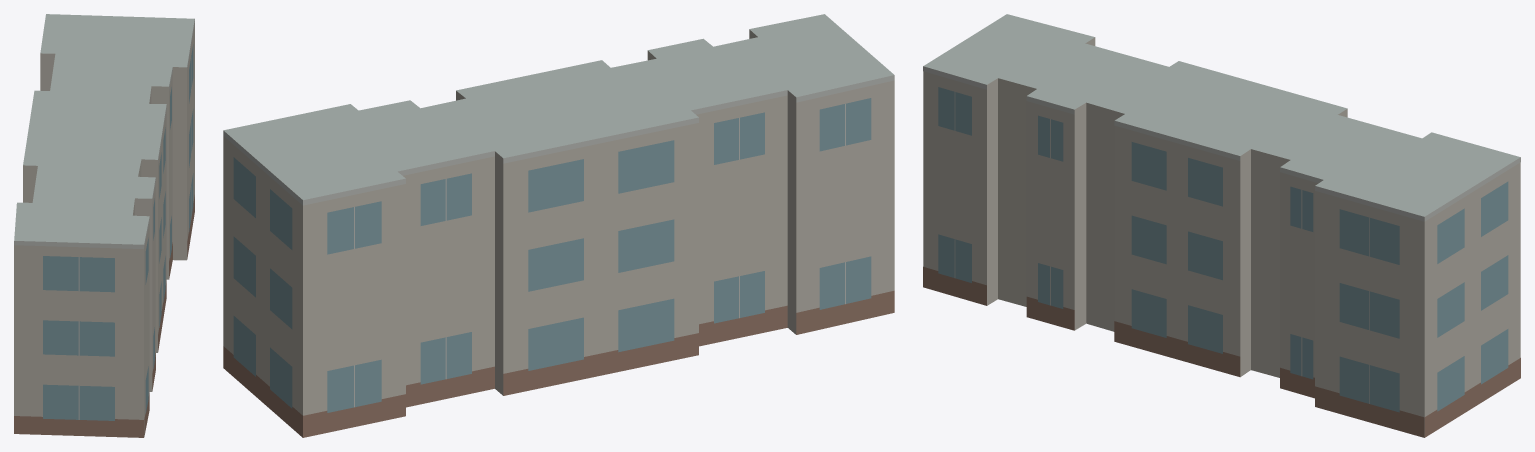
Rendered from survey-upis-32554726.glb.
3 views of the same model, side by side, from view 1: azimuth 30°, elevation 25°; view 2: azimuth 150°, elevation 25°; view 3: azimuth 270°, elevation 25° (orthographic). The views are drawn at different scales.
Visible parts, largest first — view 1: survey-upis-32554726.tmp; view 2: survey-upis-32554726.tmp; view 3: survey-upis-32554726.tmp.
Part boxes in pixels (x1,y1,x2,y2): survey-upis-32554726.tmp: [14, 14, 194, 437]; survey-upis-32554726.tmp: [223, 14, 894, 437]; survey-upis-32554726.tmp: [923, 14, 1520, 437].
Size of the model in its own units: 21.26 by 10.8 by 26.47.
